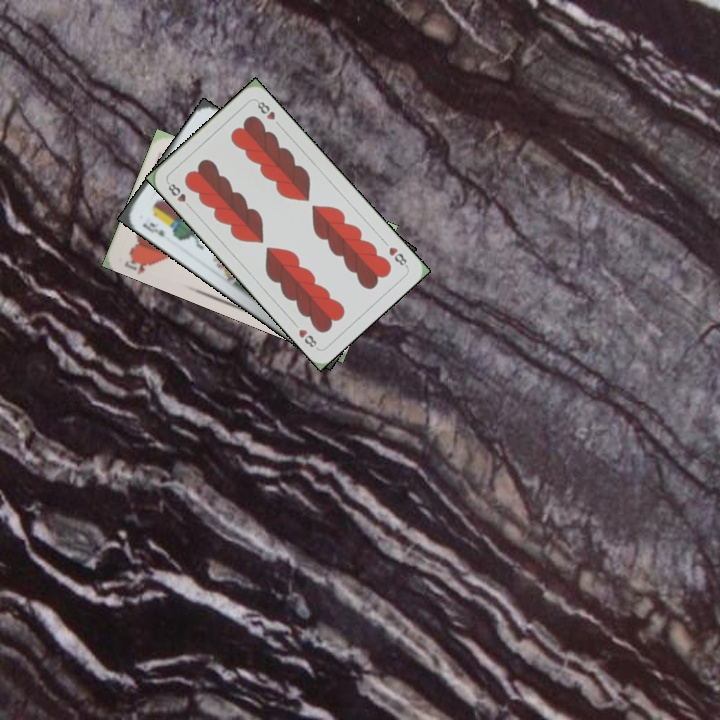EK: (138, 218, 167, 239)
H8: (163, 178, 194, 211), (385, 243, 410, 270)
HO: (120, 251, 154, 277)
